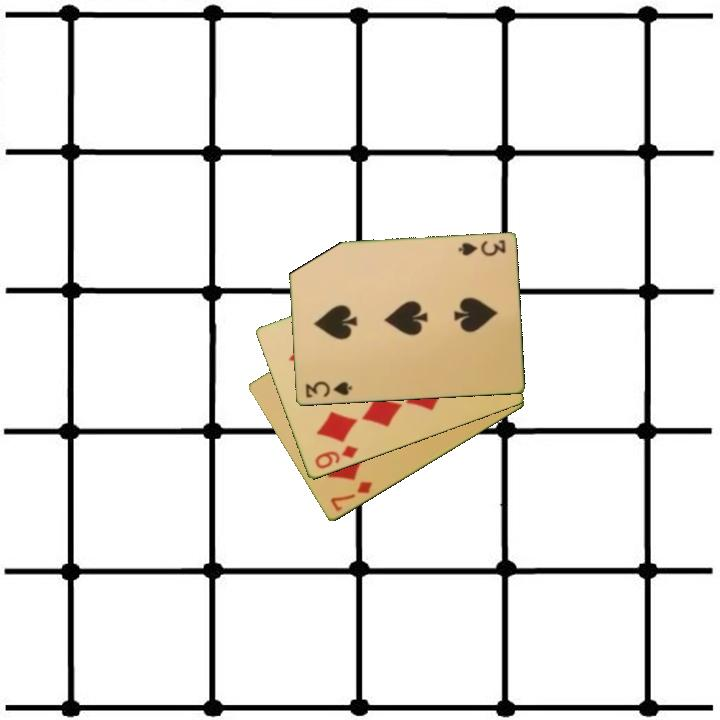3s: (454, 236, 508, 260), (302, 378, 354, 401)
7d: (327, 478, 375, 515)
9d: (311, 442, 361, 472)
